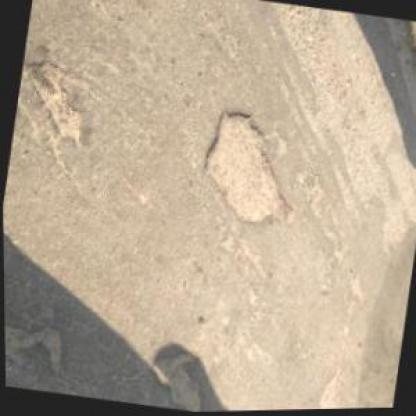pothole: (189, 101, 312, 239), (10, 52, 94, 156)
